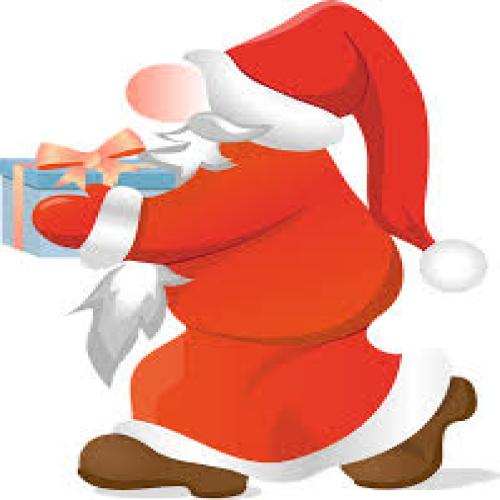Santa: (33, 1, 480, 499)
